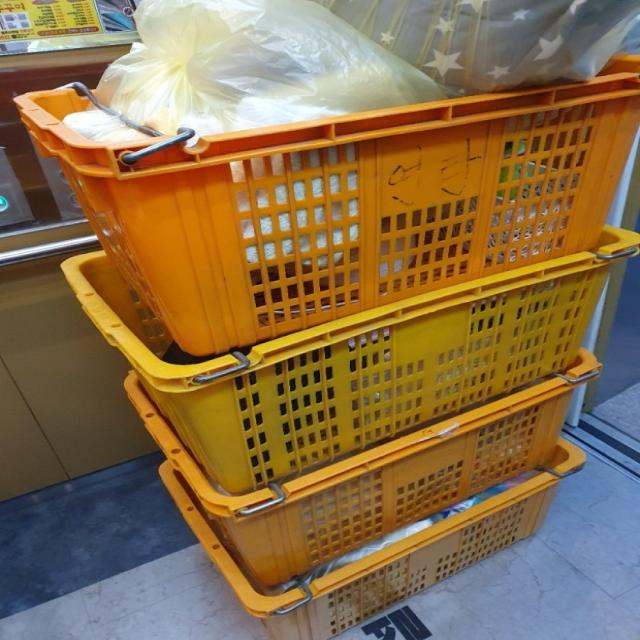basket: (156, 464, 561, 640)
